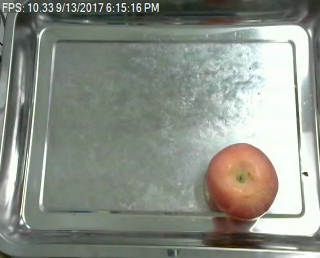Apple: (203, 140, 279, 222)
